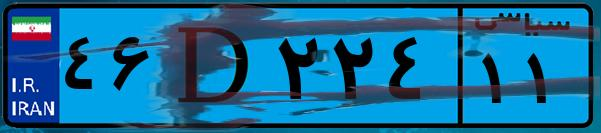1: (475, 38, 525, 113), (525, 38, 570, 115)
2: (270, 28, 330, 110), (330, 28, 385, 110)
4: (385, 28, 445, 110), (57, 26, 110, 100)
6: (110, 28, 158, 98)
D: (158, 12, 270, 120)
